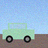vehicle: (2, 23, 34, 42)
